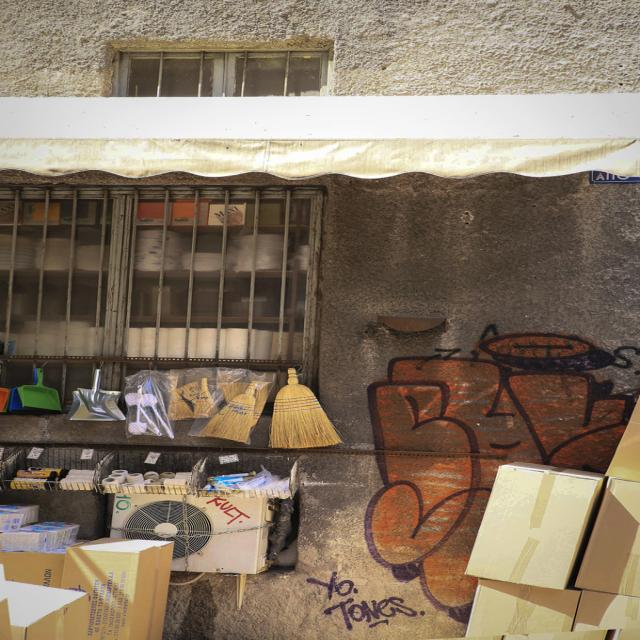Box: (461, 464, 609, 590), (0, 536, 178, 639), (580, 478, 640, 593), (470, 586, 587, 640), (574, 584, 639, 640)
